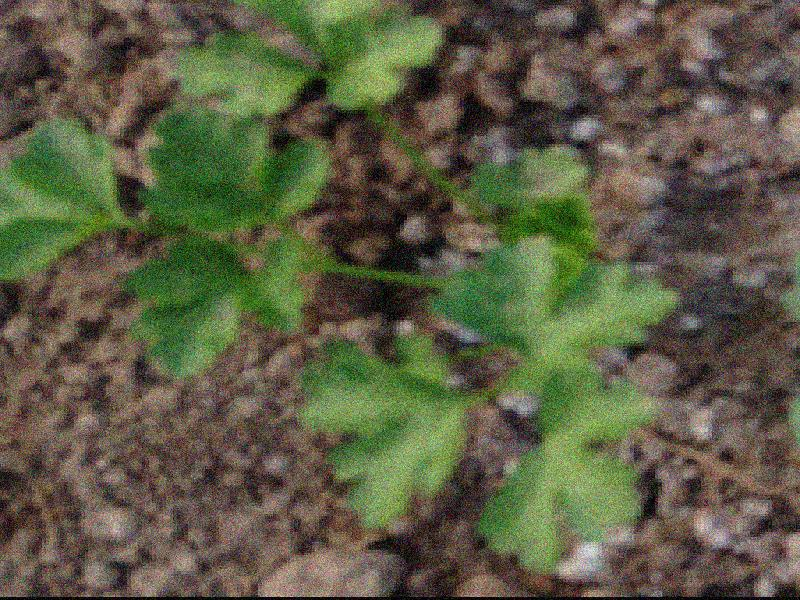radish: (22, 0, 800, 522)
